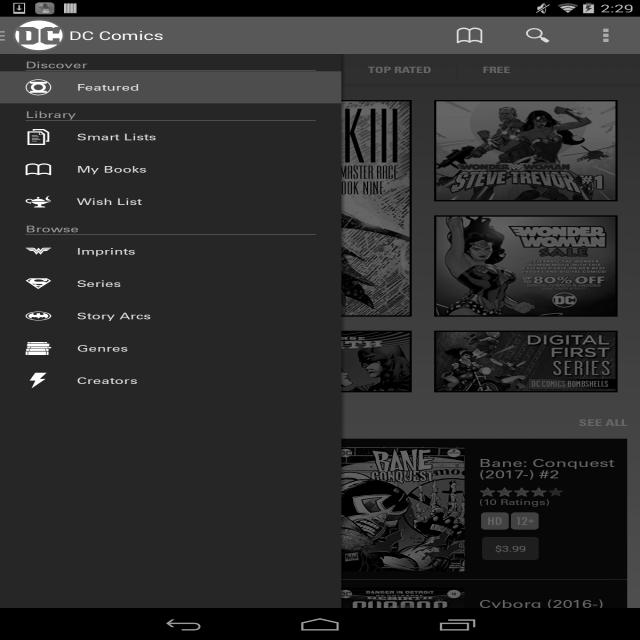Button: (479, 535, 542, 562), (172, 535, 234, 562)
ImageButton: (571, 16, 640, 54)
ImageView: (22, 100, 412, 317), (434, 215, 618, 317), (434, 100, 618, 201), (26, 447, 159, 571), (333, 447, 466, 571), (22, 331, 206, 392), (228, 331, 412, 392), (434, 331, 618, 392), (25, 587, 159, 640), (332, 587, 466, 640), (14, 19, 64, 52), (481, 512, 509, 530), (511, 512, 539, 530), (174, 512, 201, 530), (204, 512, 231, 530), (0, 30, 17, 41)
RatingBar: (172, 487, 257, 497), (479, 487, 564, 497)
TextView: (192, 417, 574, 430), (111, 54, 236, 86), (172, 456, 320, 481), (479, 456, 627, 481), (172, 597, 320, 622), (479, 597, 627, 622), (342, 54, 457, 86), (0, 54, 111, 86), (236, 54, 342, 86), (0, 129, 182, 145), (0, 308, 177, 324), (0, 161, 172, 177), (0, 243, 161, 260), (0, 193, 167, 209), (13, 415, 191, 430), (0, 79, 165, 95), (0, 372, 163, 388), (435, 17, 504, 54), (503, 17, 572, 54), (457, 54, 536, 86), (0, 276, 147, 292), (0, 341, 154, 356), (69, 27, 164, 43), (26, 59, 88, 71), (172, 497, 244, 507), (479, 497, 550, 507), (26, 223, 79, 235), (26, 109, 76, 120), (579, 417, 627, 428)
